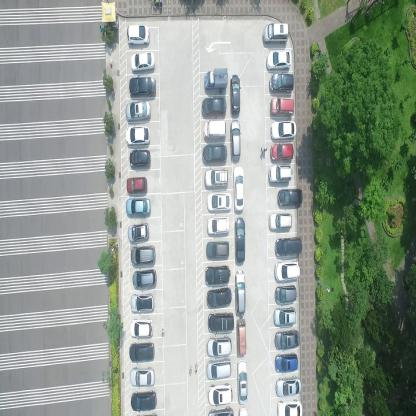car: (207, 381, 234, 407), (269, 70, 295, 95), (265, 48, 292, 72), (204, 66, 228, 93), (206, 190, 233, 214), (273, 261, 302, 283), (127, 76, 156, 98), (206, 286, 232, 310), (262, 22, 289, 45), (270, 120, 298, 142), (204, 265, 232, 287), (128, 365, 156, 387), (204, 167, 230, 190), (207, 311, 233, 334), (129, 339, 155, 362), (202, 144, 229, 166), (206, 335, 233, 357), (206, 358, 233, 380), (130, 390, 157, 412), (234, 216, 246, 265), (234, 269, 246, 318), (275, 238, 304, 258), (233, 164, 245, 212), (131, 50, 155, 74), (277, 186, 303, 208), (125, 101, 151, 123), (125, 124, 151, 146), (270, 141, 294, 164), (236, 358, 248, 404), (126, 23, 150, 46), (276, 376, 301, 398), (129, 293, 154, 315), (130, 246, 156, 267), (200, 97, 227, 117), (269, 211, 294, 232), (274, 331, 300, 351), (130, 148, 152, 171), (206, 216, 230, 237), (269, 164, 294, 184), (129, 318, 154, 338), (132, 270, 158, 289), (206, 241, 230, 261), (126, 198, 151, 217), (230, 119, 241, 162), (126, 175, 148, 196), (128, 222, 149, 244), (275, 353, 298, 373), (230, 73, 240, 119), (270, 97, 294, 116), (235, 318, 247, 356), (203, 121, 227, 140), (273, 284, 298, 302), (274, 308, 298, 326), (276, 400, 304, 415), (206, 405, 234, 415)
